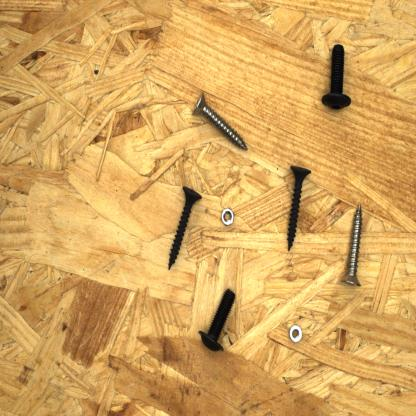screw: (188, 80, 252, 166), (160, 174, 208, 280), (276, 159, 318, 256), (196, 282, 242, 354), (335, 192, 367, 292), (318, 36, 358, 114)
